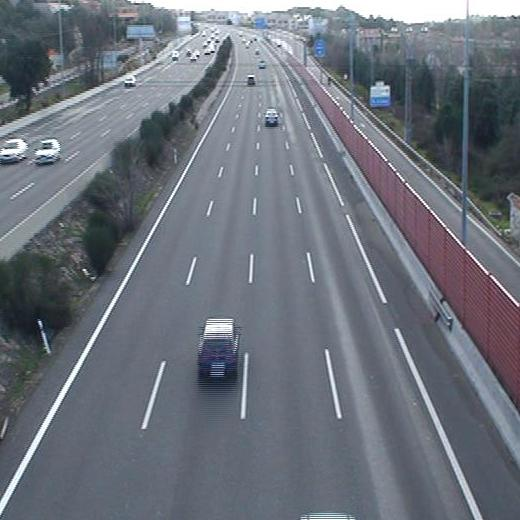car: (198, 317, 240, 380), (265, 108, 277, 126), (246, 74, 255, 85)
